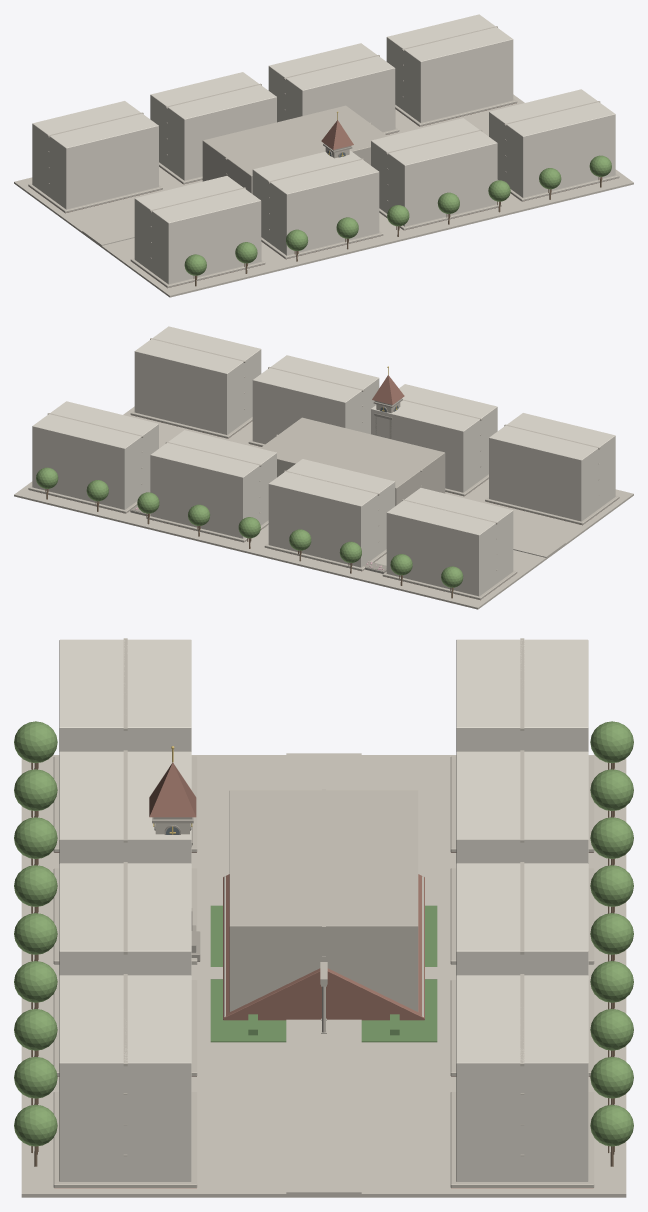
File: DISTRICT_C_URBAN_AXIS.glb
The picture shows the model from 3 angles, top to bottom: view 1: azimuth 30°, elevation 25°; view 2: azimuth 150°, elevation 25°; view 3: azimuth 270°, elevation 25°; orthographic projection. The views are drawn at different scales.
Visible parts, largest first — view 1: Mass.001, Mass.007, Mass, Mass.006, Axis_Ground, Mass.004, Mass.002, Mass.003, Mass.005, Mass.008, Axis_Spine, Mass_Plinth.001 (+6 smaller); view 2: Mass, Mass.006, Mass.001, Mass.003, Mass.007, Mass.005, Axis_Ground, Mass.004, Mass.008, Mass.002, Axis_Spine, Mass_Plinth (+6 smaller); view 3: Axis_Ground, Mass.008, Mass.006, Mass.007, Axis_Spine, Mass.001, Mass, Mass.004, Mass.005, Mass.003, Mass.002, Roof_Pitched.040 (+28 smaller).
Boxes of the visible parts, x1,y1,x2,y2 form: Mass.001: (32, 101, 158, 209); Mass.007: (386, 14, 513, 122); Mass: (134, 176, 261, 284); Mass.006: (489, 89, 615, 197); Axis_Ground: (14, 94, 633, 297); Mass.004: (371, 118, 497, 226); Mass.002: (252, 150, 379, 255); Mass.003: (150, 72, 276, 180); Mass.005: (268, 43, 395, 132); Mass.008: (202, 105, 387, 193); Axis_Spine: (82, 131, 488, 245); Mass_Plinth.001: (28, 183, 162, 213); Mass: (489, 413, 615, 521); Mass.006: (134, 326, 261, 434); Mass.001: (386, 488, 513, 596); Mass.003: (268, 459, 395, 567); Mass.007: (32, 401, 158, 509); Mass.005: (150, 430, 276, 538); Axis_Ground: (14, 406, 633, 609); Mass.004: (252, 355, 379, 444); Mass.008: (260, 417, 445, 505); Mass.002: (371, 384, 497, 492); Axis_Spine: (159, 443, 565, 557); Mass_Plinth: (485, 495, 619, 525); Axis_Ground: (21, 755, 626, 1197); Mass.008: (229, 790, 418, 1011); Mass.006: (59, 975, 191, 1181); Mass.007: (456, 975, 588, 1181); Axis_Spine: (286, 753, 361, 1193); Mass.001: (456, 639, 588, 751); Mass: (59, 639, 191, 751); Mass.004: (59, 863, 191, 975); Mass.005: (456, 863, 588, 975); Mass.003: (456, 751, 588, 863); Mass.002: (59, 751, 191, 863); Roof_Pitched.040: (223, 874, 424, 1020).
Bounding box in the file's own units: 110 × 24.26 × 65.62.
